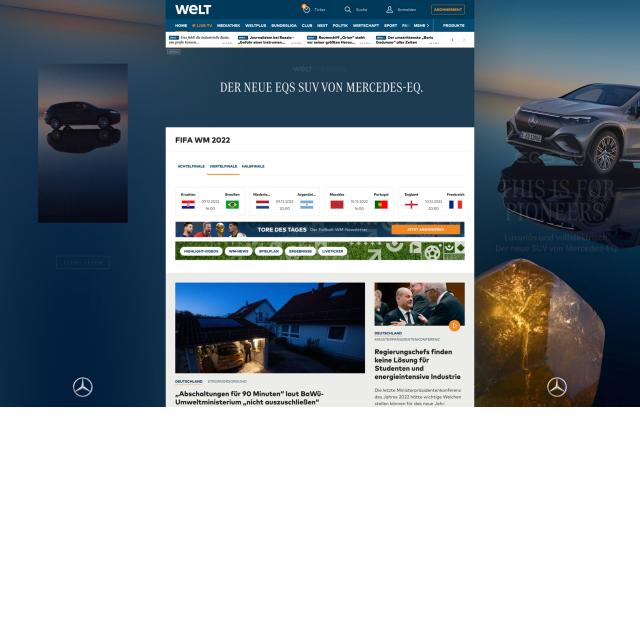logo: (175, 3, 213, 16)
navigation: (167, 20, 474, 32), (443, 32, 474, 48)
video: (374, 281, 465, 332)
